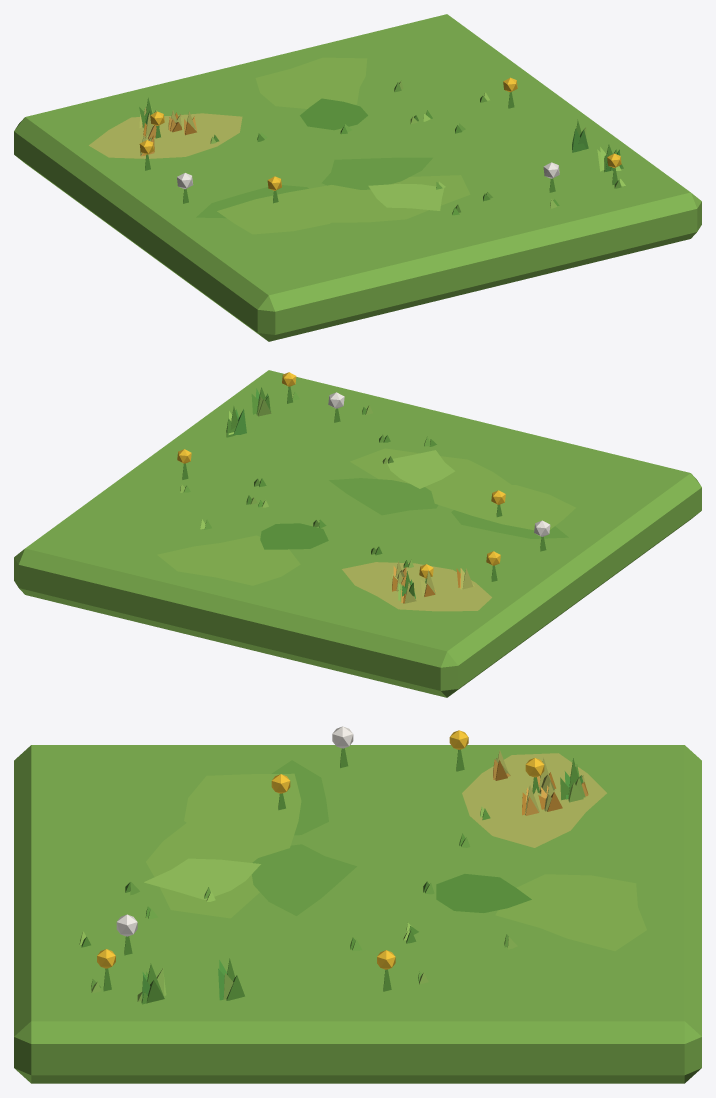
File: tile_grass_e.fbx
The picture shows the model from 3 angles, top to bottom: view 1: azimuth 30°, elevation 25°; view 2: azimuth 150°, elevation 25°; view 3: azimuth 270°, elevation 25°; orthographic projection. The views are drawn at different scales.
Visible parts, largest first — view 1: tile_grass_e; view 2: tile_grass_e; view 3: tile_grass_e.
Boxes of the visible parts, left/top/right/bottom form: tile_grass_e: left=14, top=14, right=701, bottom=341; tile_grass_e: left=14, top=370, right=701, bottom=697; tile_grass_e: left=14, top=726, right=701, bottom=1083.
Bounding box in the file's own units: 1 × 0.1659 × 1.
